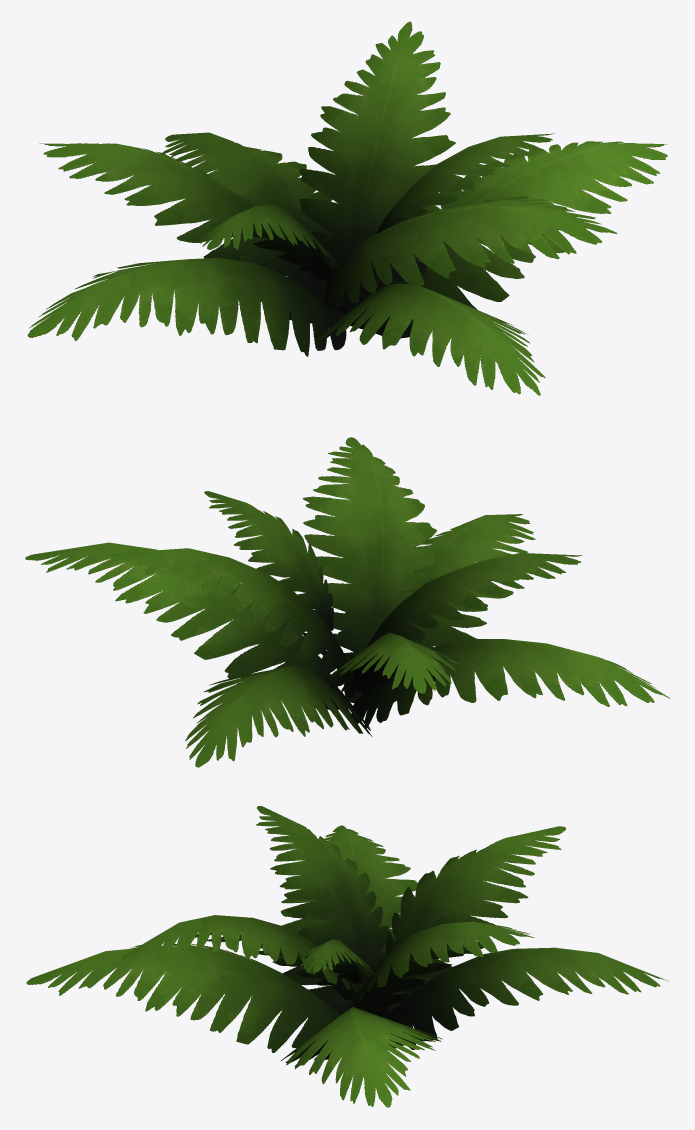
Rendered from Fern_1.glb.
The picture shows the model from 3 angles, top to bottom: view 1: azimuth 30°, elevation 25°; view 2: azimuth 150°, elevation 25°; view 3: azimuth 270°, elevation 25°; orthographic projection. The views are drawn at different scales.
Parts seen in each view (by area): view 1: Fern_1; view 2: Fern_1; view 3: Fern_1.
Boxes of the visible parts, left/top/right/bottom form: Fern_1: left=27, top=21, right=667, bottom=395; Fern_1: left=25, top=437, right=670, bottom=767; Fern_1: left=26, top=806, right=668, bottom=1107.
Bounding box in the file's own units: 2.83 × 0.8402 × 2.65.
1 material, 1 textured.
